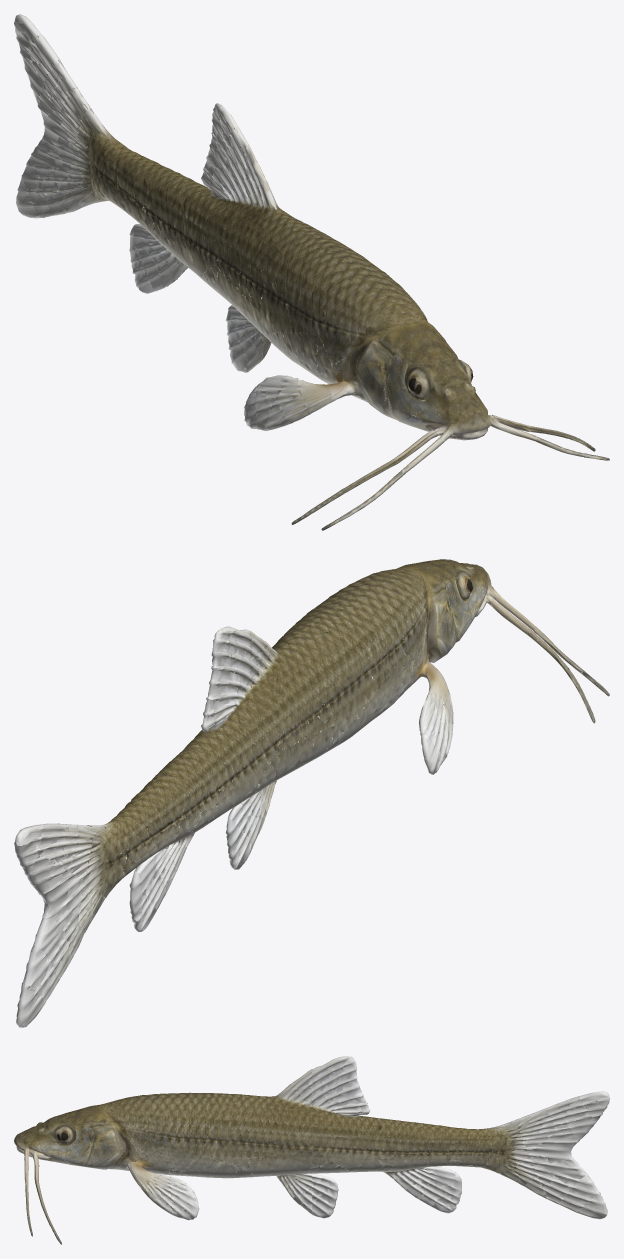
The model's file is kielb_bialoplety.glb.
3 views of the same model, one above another, from view 1: azimuth 30°, elevation 25°; view 2: azimuth 150°, elevation 25°; view 3: azimuth 270°, elevation 25° (orthographic). The views are drawn at different scales.
Visible parts, largest first — view 1: Mesh_0; view 2: Mesh_0; view 3: Mesh_0.
Boxes of the visible parts, x1=… form: Mesh_0: x1=14, y1=14, x2=609, y2=530; Mesh_0: x1=14, y1=559, x2=609, y2=1027; Mesh_0: x1=14, y1=1056, x2=609, y2=1244.
Size of the model in its own units: 0.7203 by 0.5737 by 1.9.
1 material, 1 textured.
